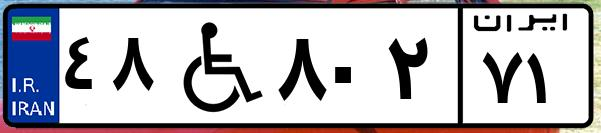0: (330, 28, 385, 110)
1: (525, 38, 570, 115)
2: (385, 28, 445, 110)
4: (57, 26, 110, 100)
7: (475, 38, 525, 113)
8: (270, 28, 330, 110), (110, 28, 158, 98)
ژ (معلولین و جانبازان): (158, 12, 270, 120)
